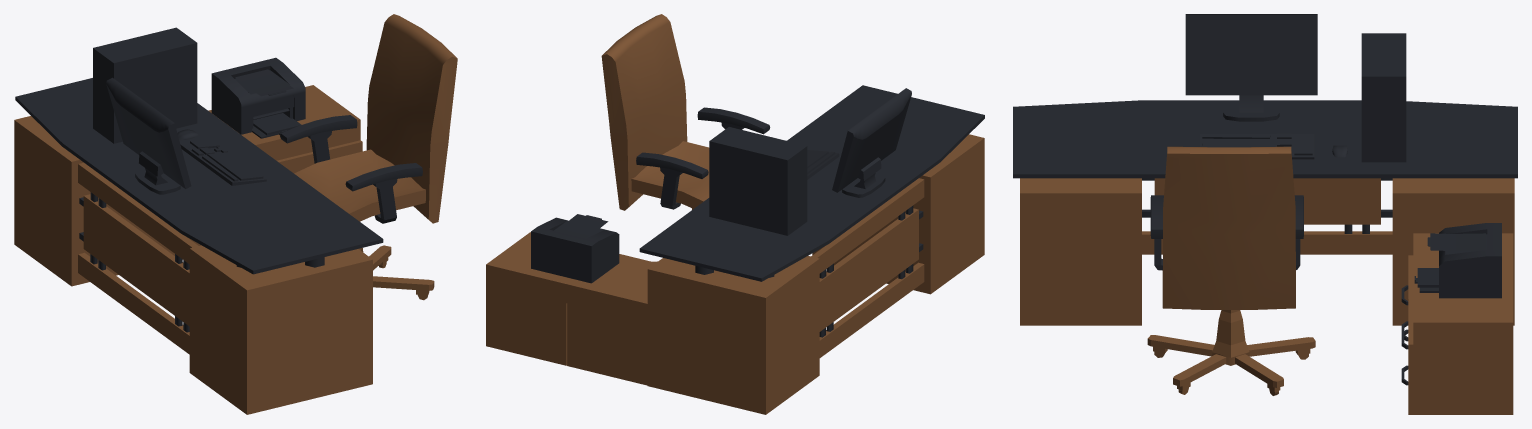
3 renders of one model, left to right at view 1: azimuth 30°, elevation 25°; view 2: azimuth 150°, elevation 25°; view 3: azimuth 270°, elevation 25°, orthographic. The views are drawn at different scales.
Visible parts, largest first — view 1: Box01_ncl1_1, Box01; view 2: Box01_ncl1_1, Box01; view 3: Box01_ncl1_1, Box01.
Part boxes in pixels (x1=…): Box01_ncl1_1: x1=14, y1=14, x2=457, y2=414; Box01: x1=15, y1=27, x2=422, y2=332; Box01_ncl1_1: x1=486, y1=14, x2=984, y2=414; Box01: x1=531, y1=85, x2=984, y2=337; Box01_ncl1_1: x1=1020, y1=146, x2=1514, y2=414; Box01: x1=1013, y1=14, x2=1517, y2=385.
Size of the model in its own units: 1.27 by 0.9624 by 1.7.
